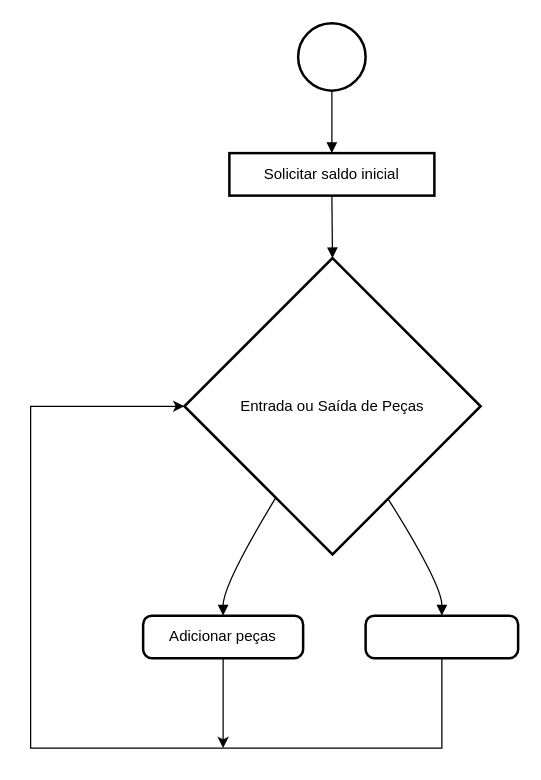
Image size: 541x780. Some labels were removed from this diagram. Each missing label, with the centre of its shape:
"Inicio" belongs at pixel 331 56.
"Remover peças" belongs at pixel 441 636.
